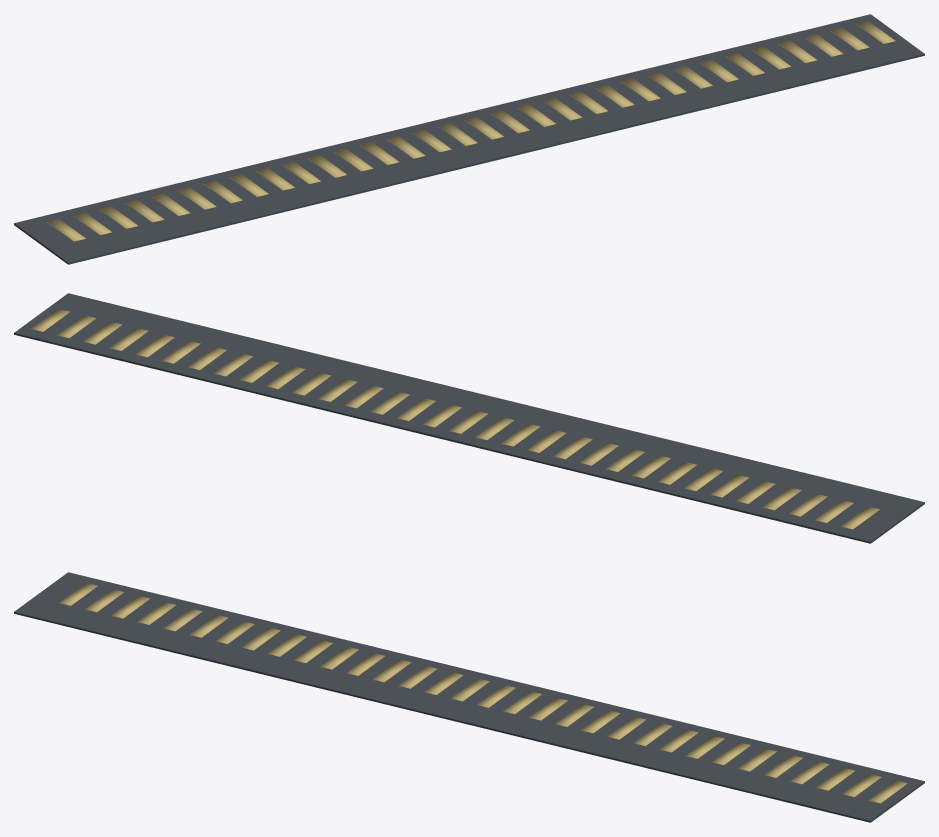
The model's file is 245_L116_NVMe_EdgeGoldFingers.glb.
3 renders of one model, top to bottom at view 1: azimuth 30°, elevation 25°; view 2: azimuth 150°, elevation 25°; view 3: azimuth 330°, elevation 25°, orthographic.
Visible parts, largest first — view 1: __PSMAT__Connector_Polymer, __PSMAT__Gold_ENIG; view 2: __PSMAT__Connector_Polymer, __PSMAT__Gold_ENIG; view 3: __PSMAT__Connector_Polymer, __PSMAT__Gold_ENIG.
Part boxes in pixels (left/top/right/bottom): __PSMAT__Connector_Polymer: left=14, top=14, right=924, bottom=264; __PSMAT__Gold_ENIG: left=47, top=21, right=895, bottom=241; __PSMAT__Connector_Polymer: left=14, top=293, right=924, bottom=543; __PSMAT__Gold_ENIG: left=31, top=309, right=879, bottom=529; __PSMAT__Connector_Polymer: left=14, top=572, right=924, bottom=822; __PSMAT__Gold_ENIG: left=59, top=583, right=907, bottom=803.
Bounding box in the file's own units: 0.082 × 0.000265 × 0.009.
